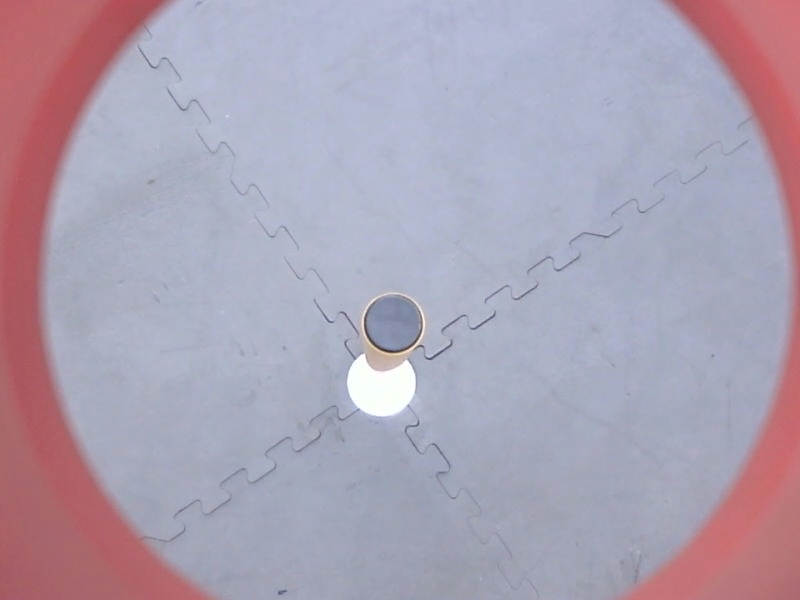tip: (358, 289, 431, 362)
